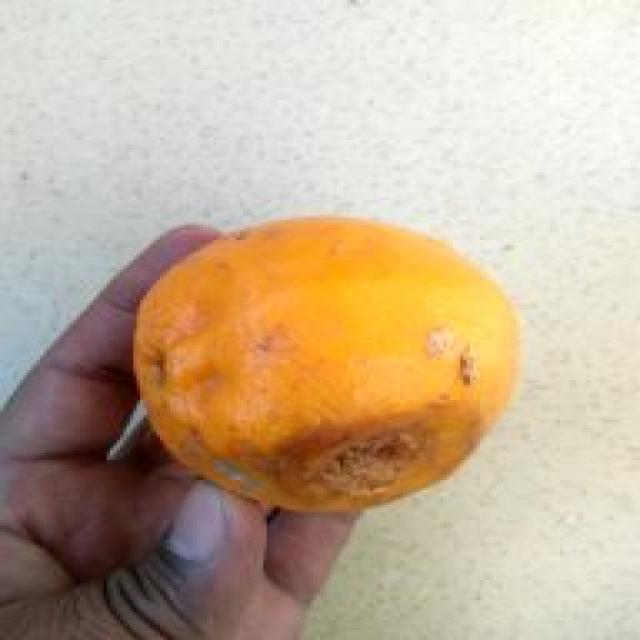Bad_Orange: (137, 219, 517, 511)
